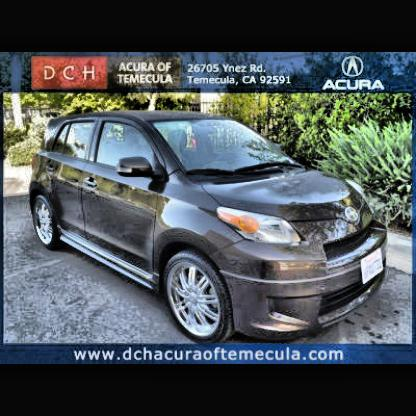Scion xD Hatchback 2012: (29, 110, 391, 348)
